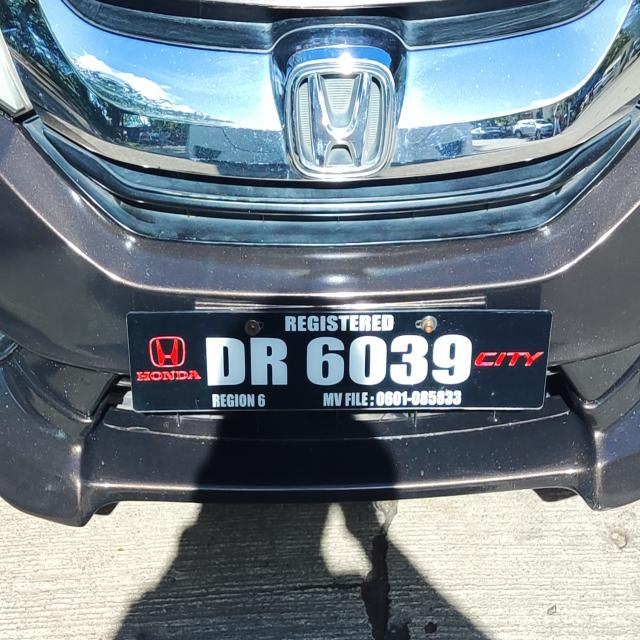plate: (122, 300, 559, 424)
